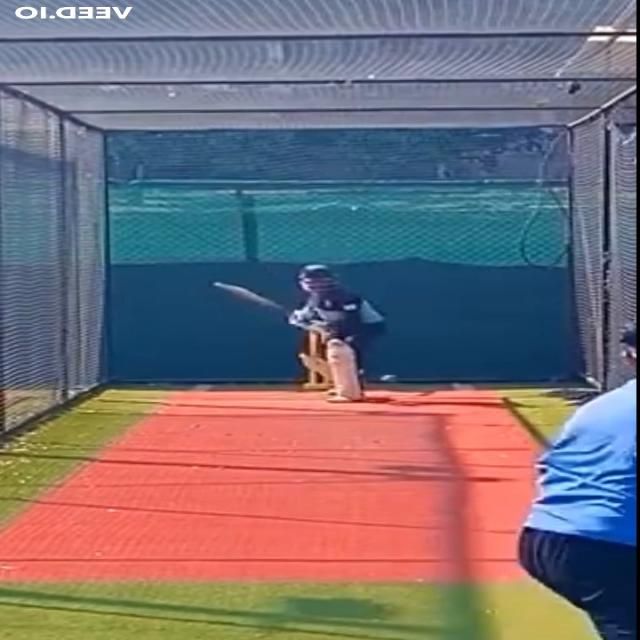ball: (378, 370, 398, 385)
